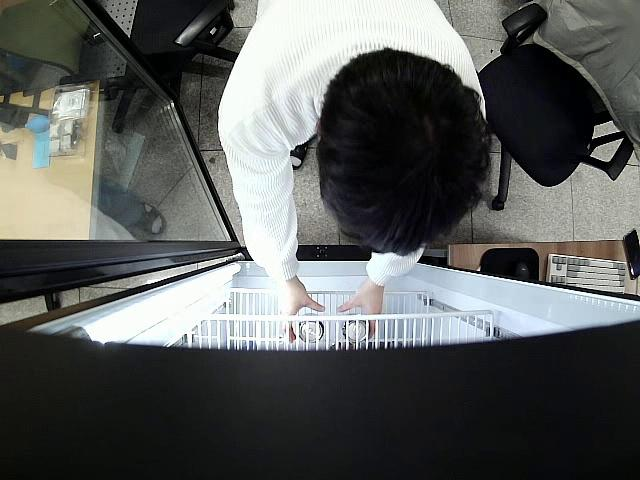00_hand: (276, 283, 325, 342), (335, 281, 383, 341)
